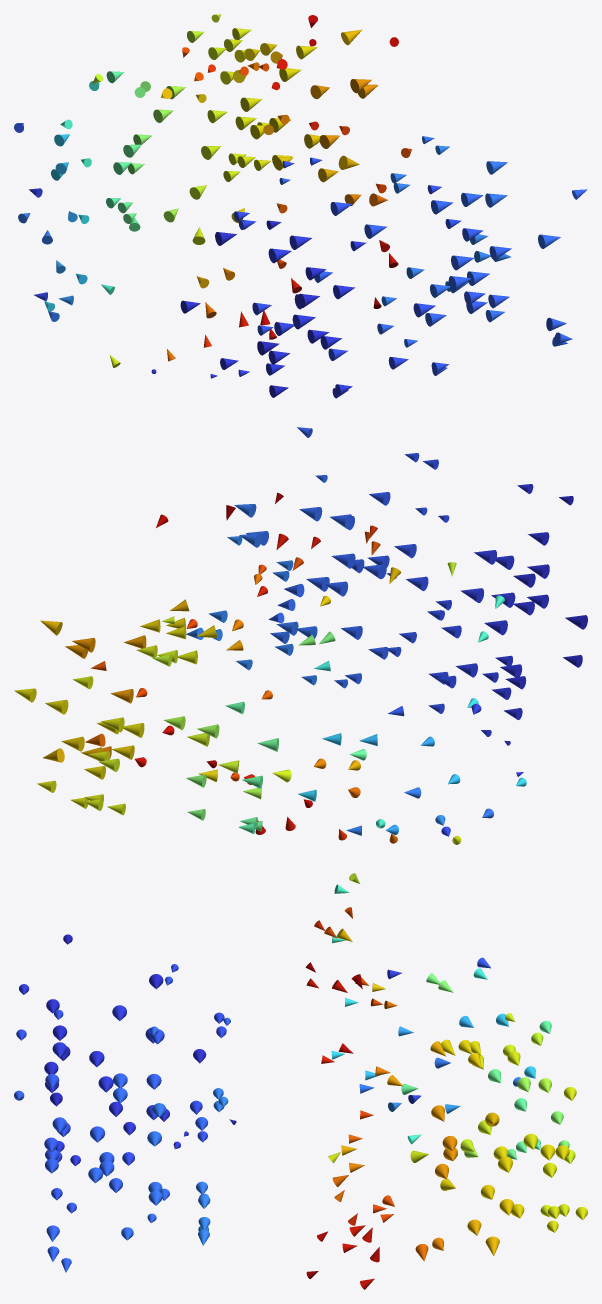
The model's file is LineasCorrienteN2-H2O_mh2-2.70_V-0.9.glb.
3 views of the same model, one above another, from view 1: azimuth 30°, elevation 25°; view 2: azimuth 150°, elevation 25°; view 3: azimuth 270°, elevation 25° (orthographic). The views are drawn at different scales.
Bounding box in the file's own units: 0.000961 × 0.000711 × 0.0012.
Materials: 2 (2 with a texture image).
